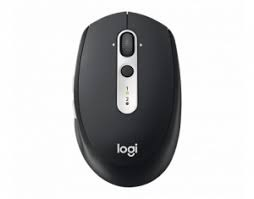mouse: (77, 3, 186, 188)
